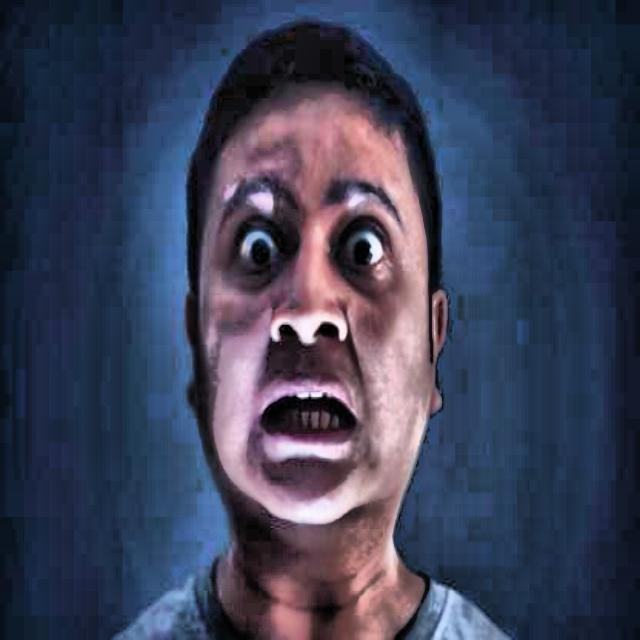fear: (175, 26, 459, 559)
